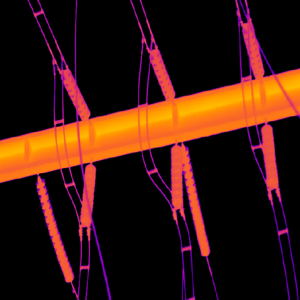insulator: (34, 175, 74, 284), (180, 148, 209, 254), (58, 64, 90, 121), (147, 46, 176, 103), (240, 16, 264, 77), (260, 121, 277, 188), (78, 164, 96, 223), (169, 143, 183, 209)
